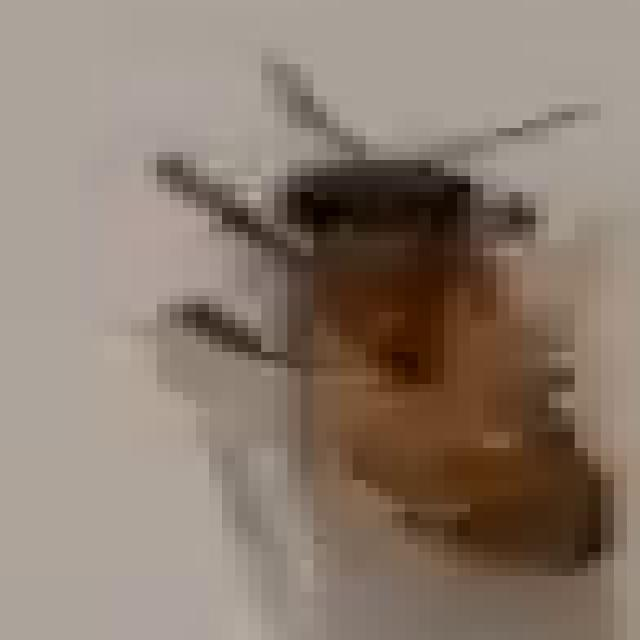honeybee: (209, 123, 599, 586)
